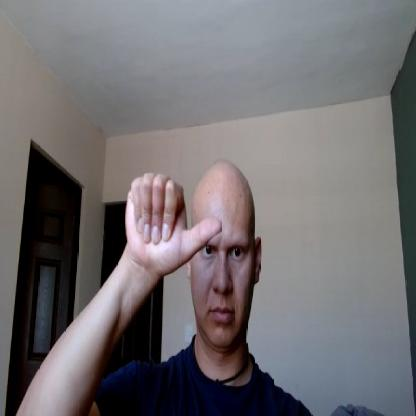A: (123, 169, 223, 278)
